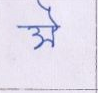au_matra: (39, 0, 61, 41)
